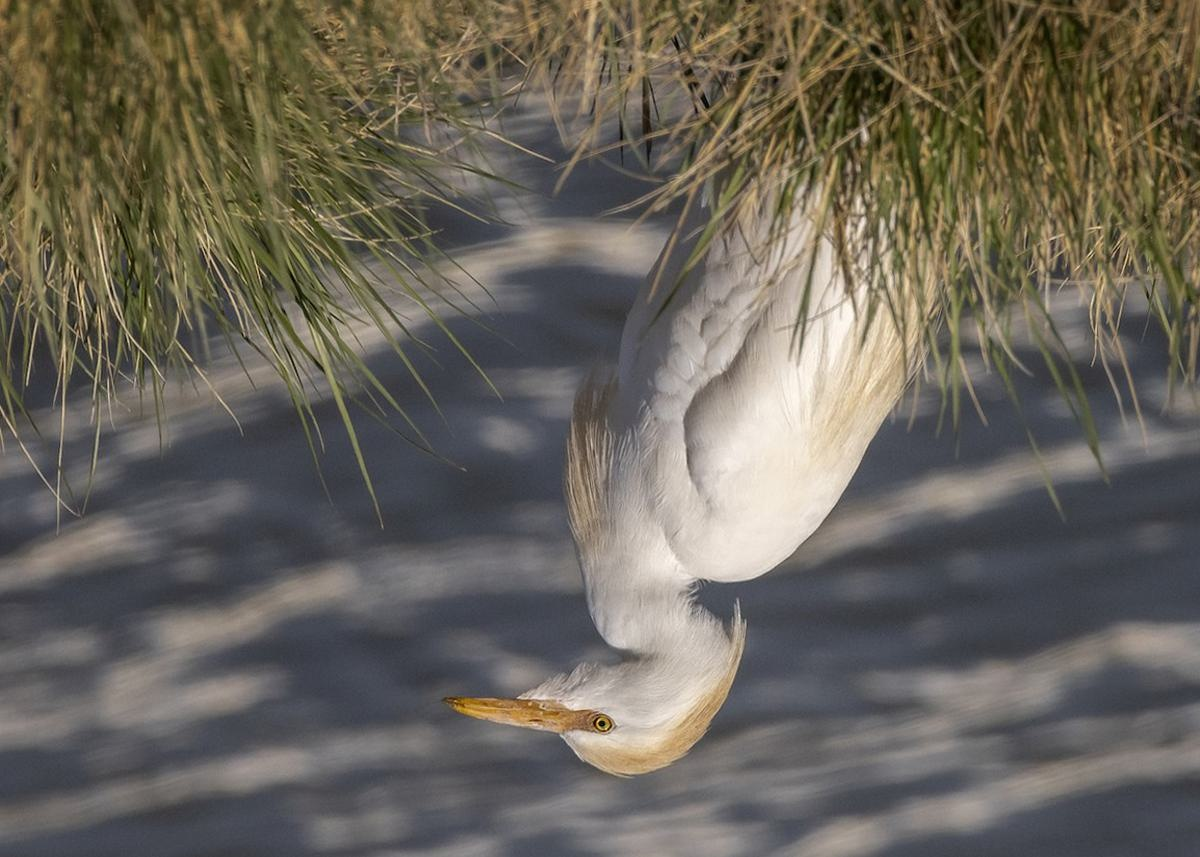egret: (445, 167, 912, 780)
